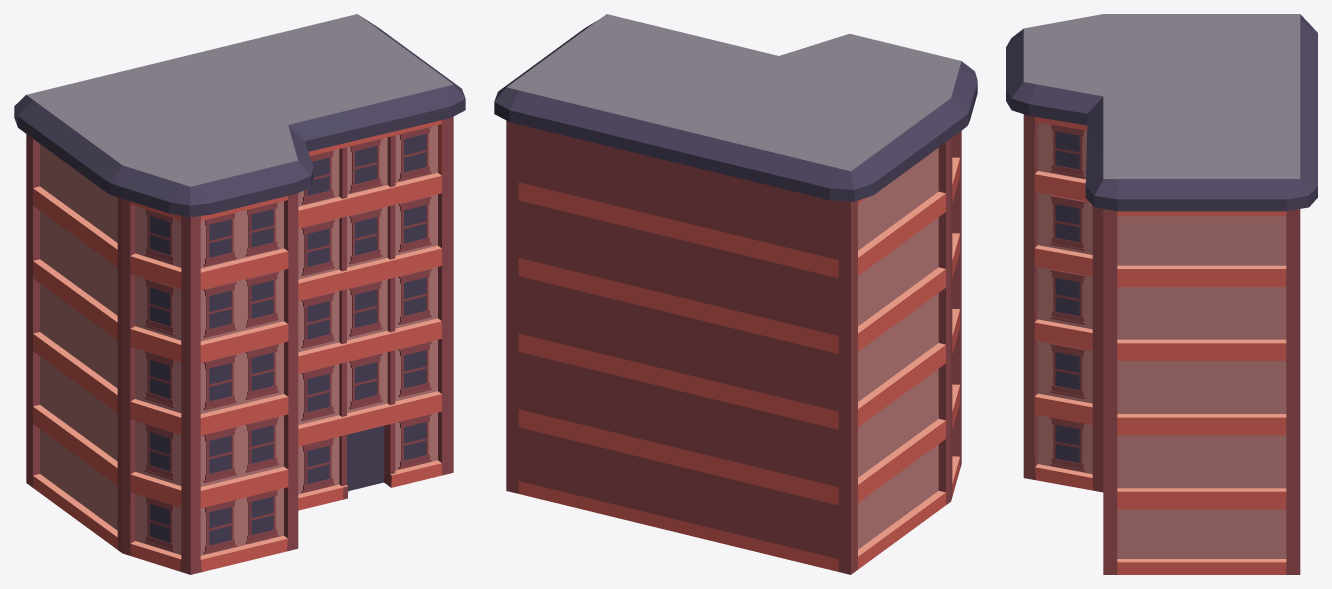
The model's file is building 3 - red.fbx.
3 views of the same model, side by side, from view 1: azimuth 30°, elevation 25°; view 2: azimuth 150°, elevation 25°; view 3: azimuth 270°, elevation 25° (orthographic). The views are drawn at different scales.
Visible parts, largest first — view 1: pCube2, pasted__pCube14 (×29); view 2: pCube2; view 3: pCube2, pasted__pCube14 (×5).
Boxes of the visible parts, left/top/right/bottom form: pCube2: left=14, top=14, right=465, bottom=574; pasted__pCube14 (×29): left=149, top=134, right=426, bottom=545; pCube2: left=494, top=14, right=977, bottom=574; pCube2: left=1006, top=14, right=1317, bottom=574; pasted__pCube14 (×5): left=1055, top=131, right=1079, bottom=462.
Size of the model in its own units: 21.65 by 22.23 by 15.86.
